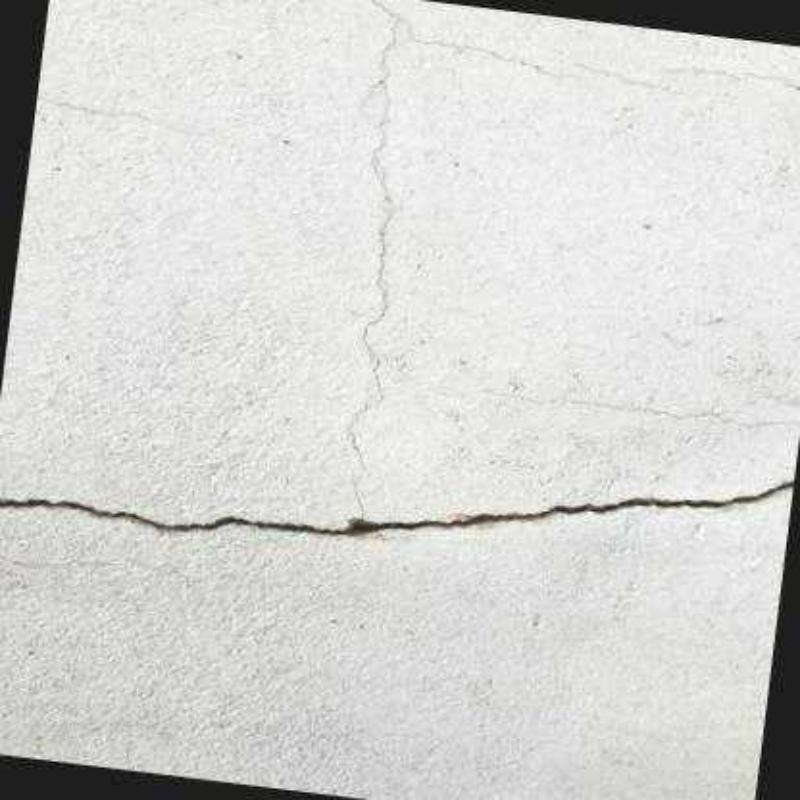crack: (0, 477, 794, 536), (348, 0, 402, 523), (515, 394, 790, 429), (412, 37, 577, 81), (550, 46, 688, 96), (38, 96, 154, 125), (665, 69, 798, 90)
